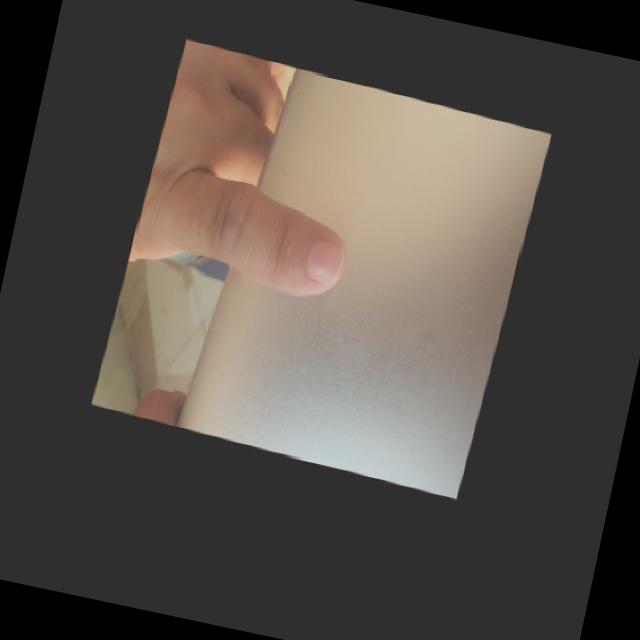Nail: (305, 240, 343, 285)
